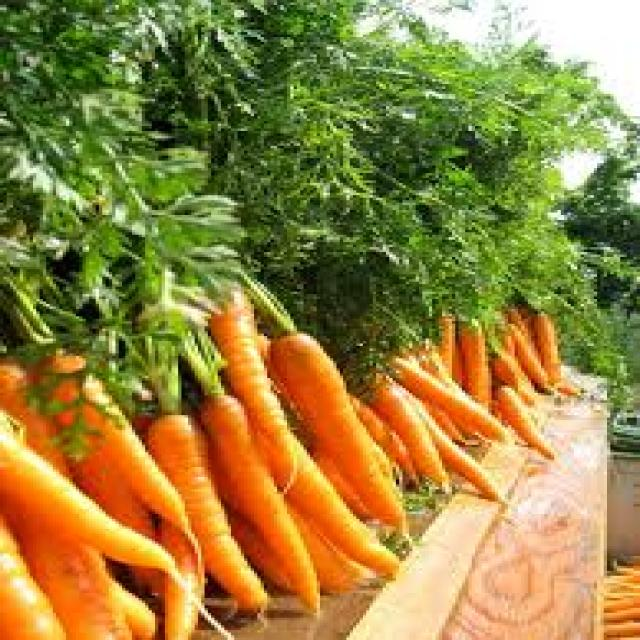organic waste: (0, 0, 234, 460), (221, 37, 587, 269), (152, 0, 475, 173), (26, 343, 198, 556), (260, 324, 402, 536), (188, 388, 320, 608), (0, 408, 178, 568), (139, 408, 267, 613), (350, 185, 577, 299), (254, 411, 396, 568), (132, 400, 201, 625), (14, 502, 126, 638), (277, 222, 366, 383), (386, 348, 501, 440), (208, 282, 280, 428), (59, 428, 152, 532), (363, 368, 442, 484), (406, 400, 492, 497), (0, 353, 69, 471), (356, 240, 429, 346), (333, 393, 419, 482), (0, 516, 59, 637), (287, 496, 360, 590), (218, 496, 294, 586), (492, 380, 554, 464), (307, 420, 363, 512), (504, 324, 570, 398), (567, 289, 617, 381), (597, 558, 637, 638), (106, 574, 155, 638), (524, 309, 561, 388), (459, 314, 488, 403), (488, 341, 531, 398), (412, 388, 458, 440), (422, 306, 452, 378), (416, 334, 442, 376), (501, 302, 528, 334), (607, 380, 627, 408), (488, 314, 498, 348)
